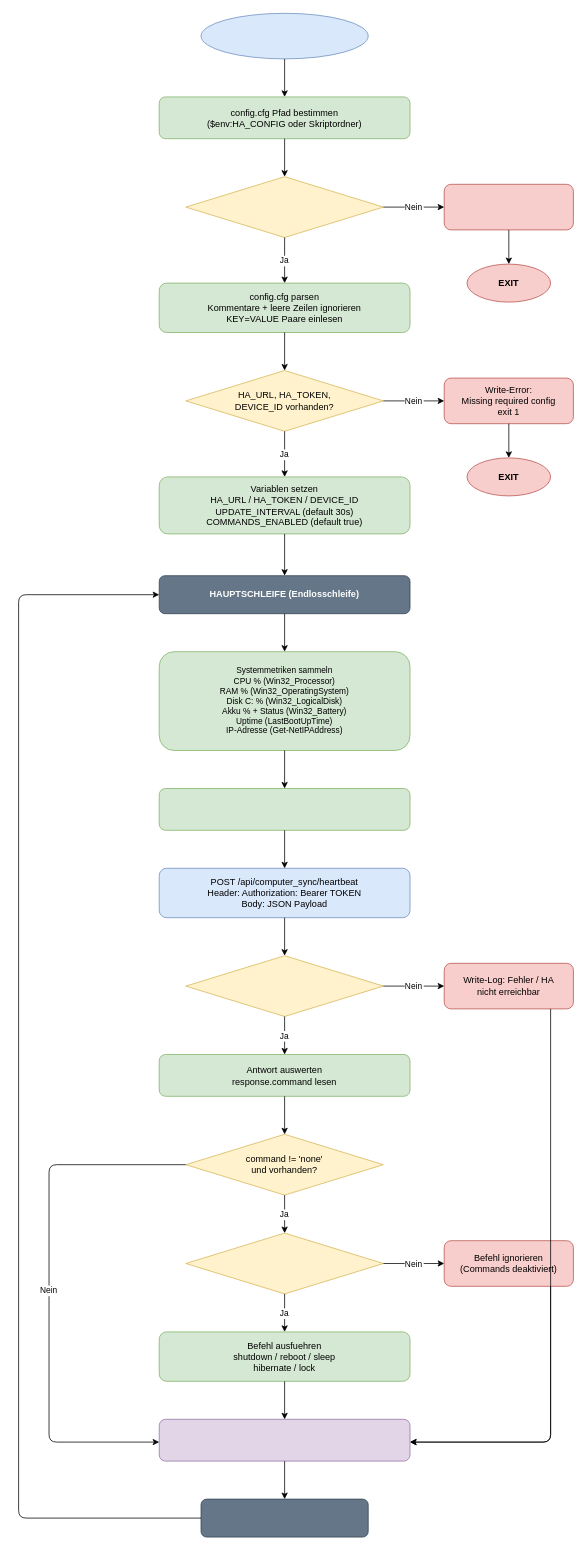
This 587x1550 diagram has some shape labels left out. The centre of each missing label's shape, as x and y in pixels:
COMMANDS_ENABLED = true?: point (284, 1263)
config.cfg vorhanden?: point (284, 207)
HTTP Request erfolgreich?: point (284, 985)
JSON Payload erstellen (ConvertTo-Json): point (284, 809)
Naechster Durchlauf: point (284, 1517)
START sync.ps1 ausfuehren: point (284, 36)
Start-Sleep UPDATE_INTERVAL Sekunden warten: point (284, 1440)
Write-Error: Config nicht gefunden exit 1: point (508, 207)
